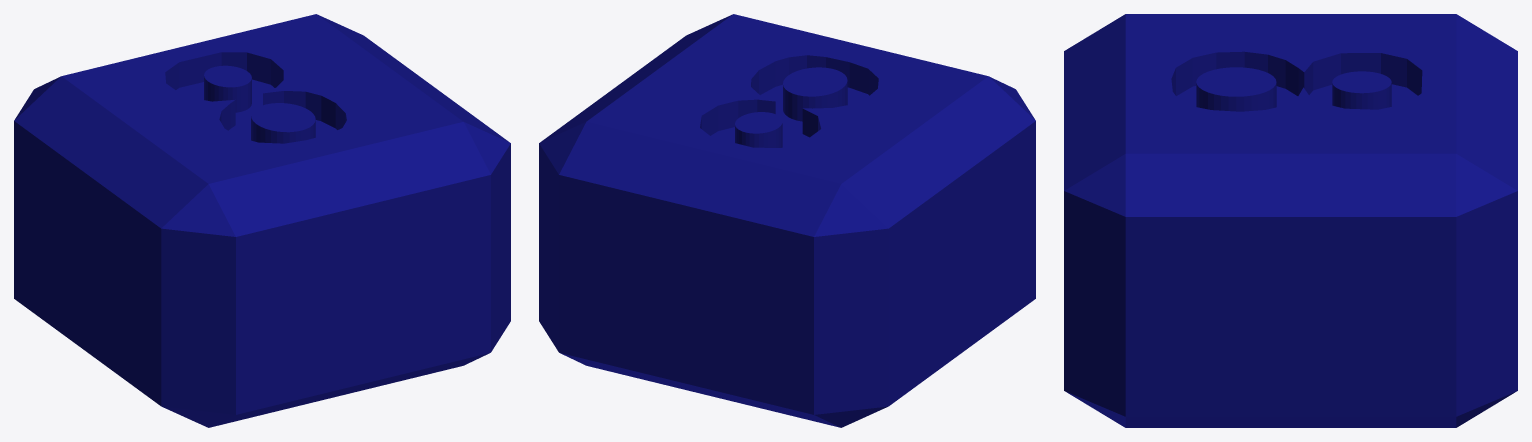
The model's file is Numero8.fbx.
3 renders of one model, left to right at view 1: azimuth 30°, elevation 25°; view 2: azimuth 150°, elevation 25°; view 3: azimuth 270°, elevation 25°, orthographic. The views are drawn at different scales.
Parts seen in each view (by area): view 1: Cubo8; view 2: Cubo8; view 3: Cubo8.
Boxes of the visible parts, left/top/right/bottom form: Cubo8: left=14, top=14, right=510, bottom=427; Cubo8: left=539, top=14, right=1035, bottom=427; Cubo8: left=1064, top=14, right=1517, bottom=427.
Size of the model in its own units: 15 by 10 by 15.
